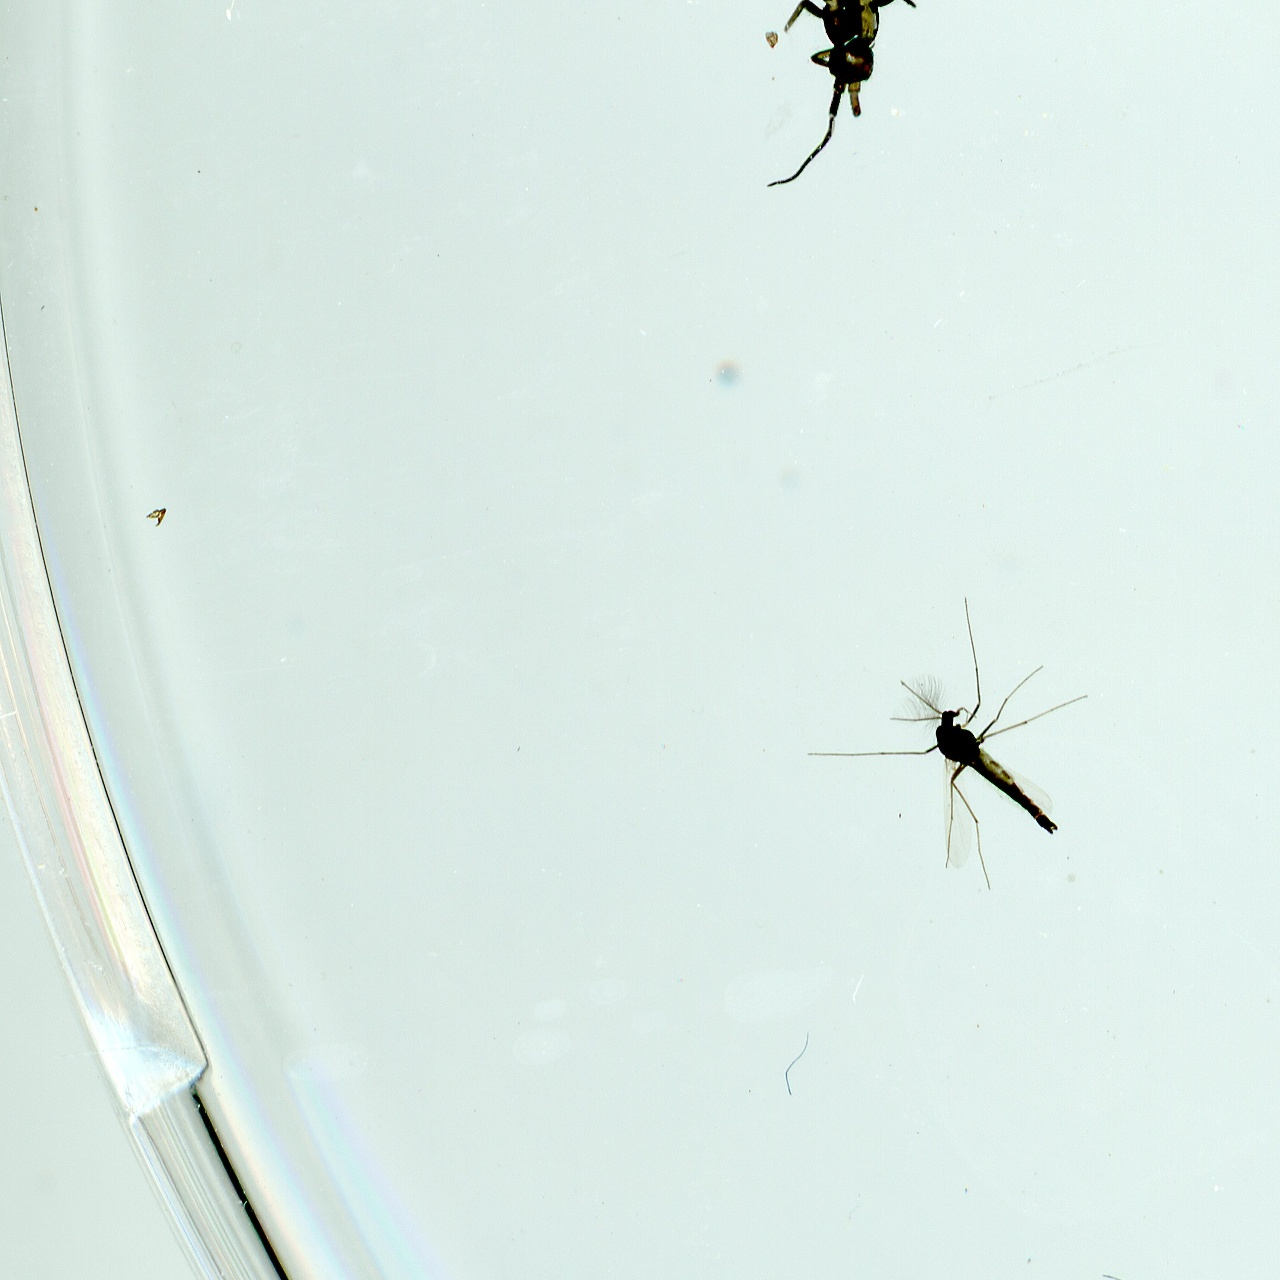arthropod: (795, 565, 1149, 918), (755, 0, 924, 193)
